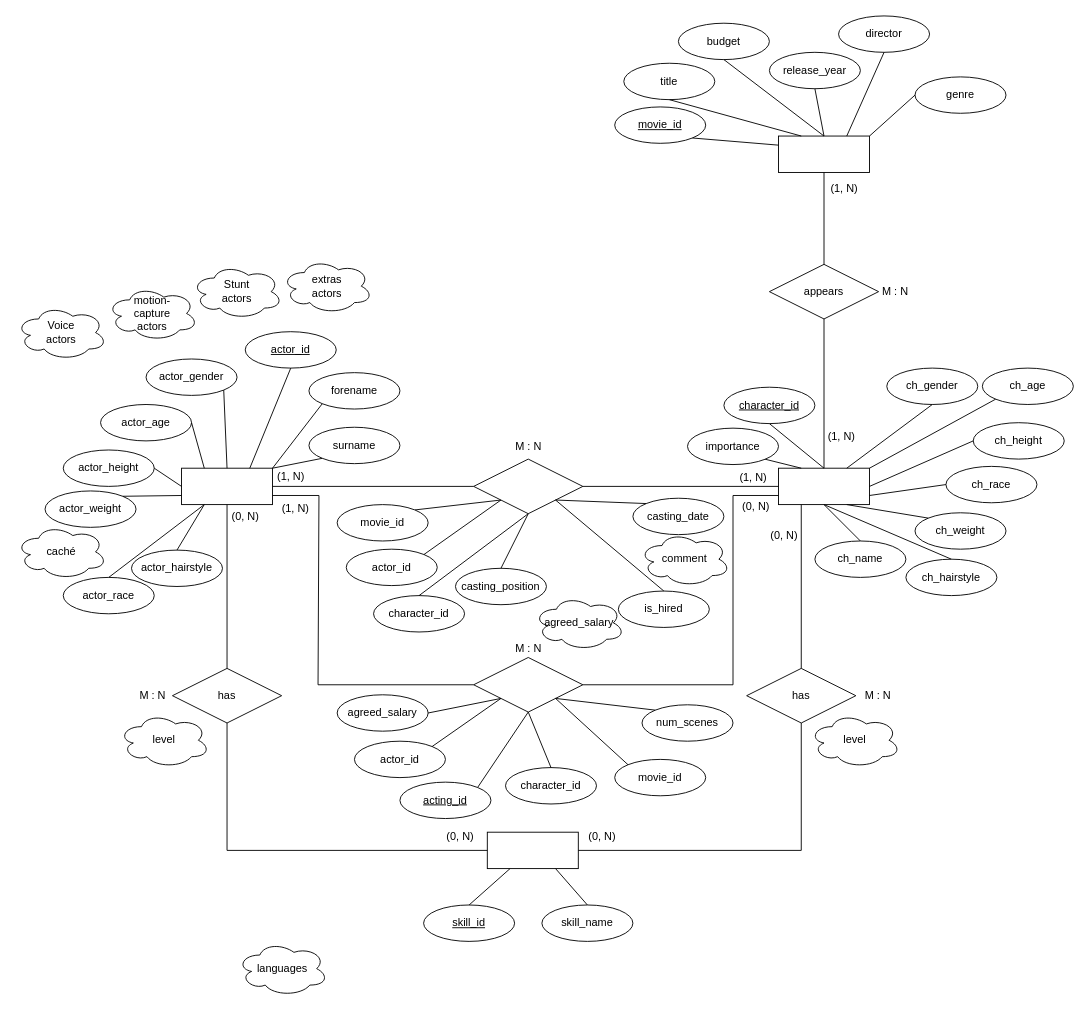
This 1089x1012 diagram has some shape labels left out. The centre of each missing label's shape, as x and y in pixels:
"acting" goes at point (528, 684).
"ACTOR" goes at point (227, 486).
"casting" goes at point (528, 486).
"CHARACTER" goes at point (824, 486).
"MOVIE" goes at point (824, 153).
"SKILL" goes at point (532, 850).
